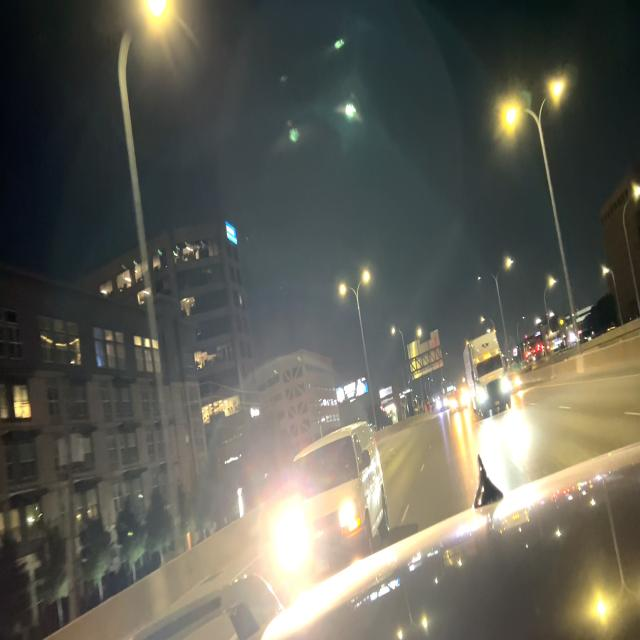back-of-sign: (405, 327, 444, 380)
